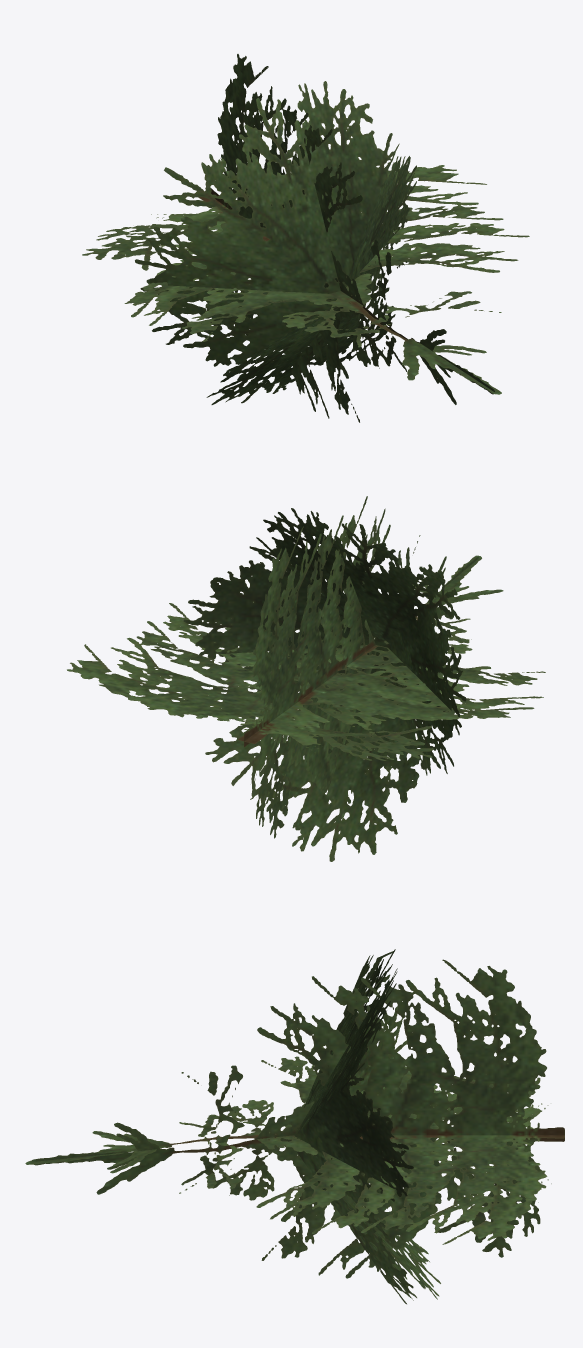
Rendered from plant_small_02.obj.
3 views of the same model, one above another, from view 1: azimuth 30°, elevation 25°; view 2: azimuth 150°, elevation 25°; view 3: azimuth 270°, elevation 25° (orthographic). The views are drawn at different scales.
Parts seen in each view (by area): view 1: plant_small_02; view 2: plant_small_02; view 3: plant_small_02.
Boxes of the visible parts, x1=… form: plant_small_02: x1=82, y1=54, x2=529, y2=422; plant_small_02: x1=67, y1=496, x2=545, y2=861; plant_small_02: x1=25, y1=949, x2=564, y2=1304.
Bounding box in the file's own units: 1.83 × 1.42 × 2.04.
Materials: 1 (1 with a texture image).
